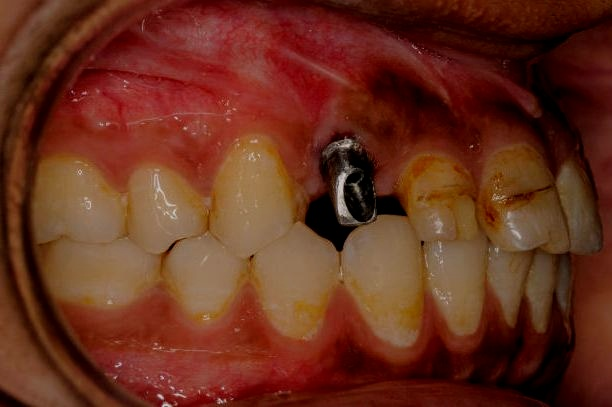Gingivitis: (356, 62, 471, 148), (475, 82, 562, 139), (329, 327, 386, 379), (475, 314, 510, 375), (418, 323, 448, 376)
